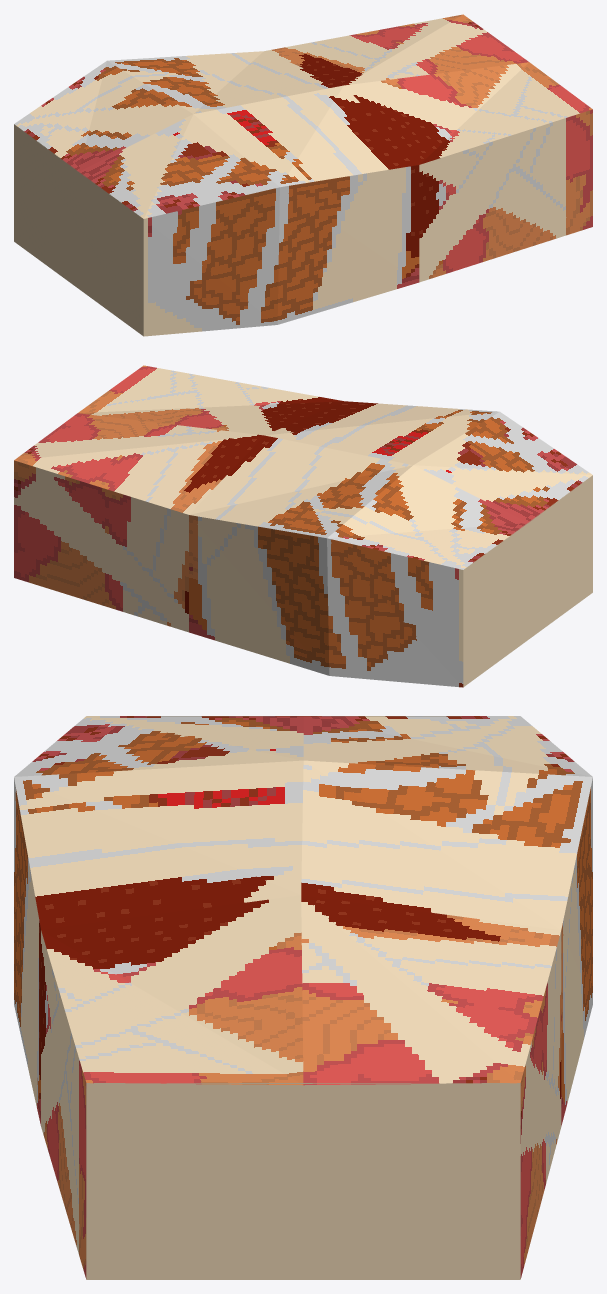
The model's file is torso.glb.
3 renders of one model, top to bottom at view 1: azimuth 30°, elevation 25°; view 2: azimuth 150°, elevation 25°; view 3: azimuth 270°, elevation 25°, orthographic. The views are drawn at different scales.
Parts seen in each view (by area): view 1: Mesh_0.002; view 2: Mesh_0.002; view 3: Mesh_0.002.
Boxes of the visible parts, x1,y1,x2,y2 form: Mesh_0.002: (14, 14, 592, 336); Mesh_0.002: (14, 365, 592, 687); Mesh_0.002: (14, 716, 592, 1279).
Size of the model in its own units: 3.01 by 0.9375 by 2.
1 material, 1 textured.
